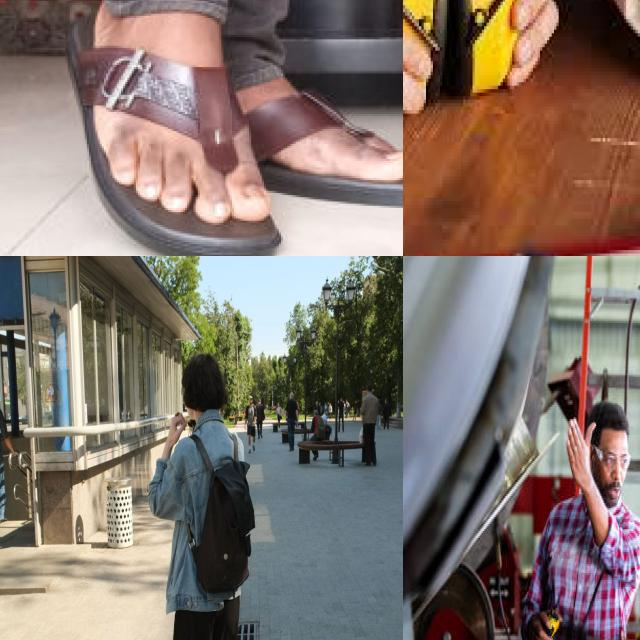Ear-protection: (444, 0, 519, 96), (403, 0, 442, 92)
No_Ear-Protection: (590, 444, 598, 468)
Sandals: (55, 1, 280, 256), (247, 91, 403, 207)
face_nomask: (590, 449, 625, 508)
glasses: (594, 446, 630, 471)
hand_noglove: (566, 420, 595, 489), (528, 610, 553, 640)
head_nohelmet: (588, 401, 628, 446)
